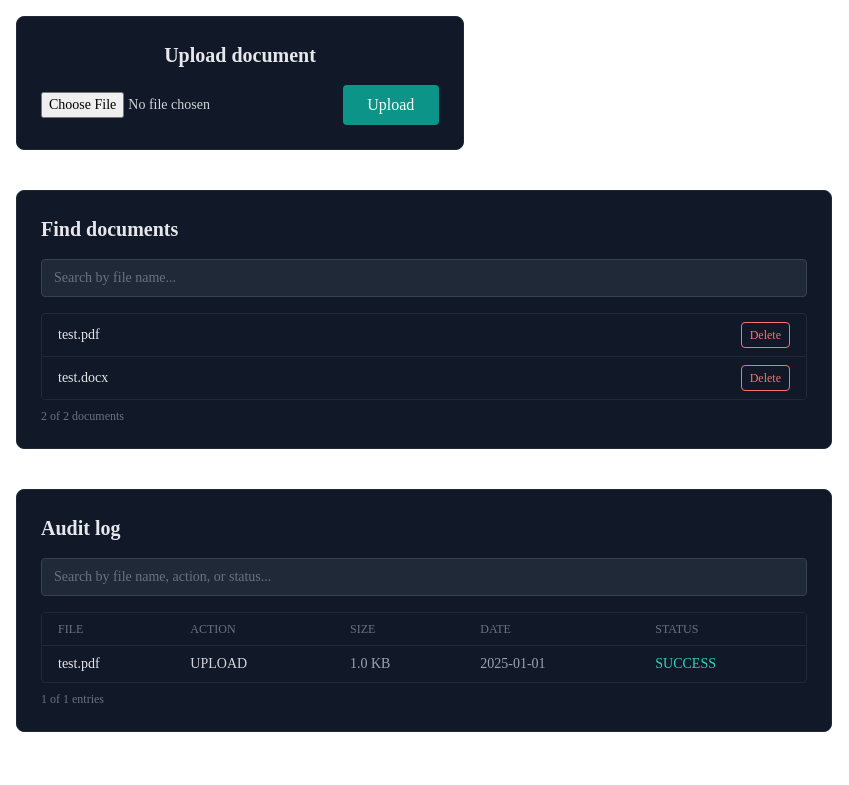
Test case: Documents › shows upload validation message
The image size is (849, 785).
Click the button "Upload". click: (391, 105)
box: [342,85,439,125]
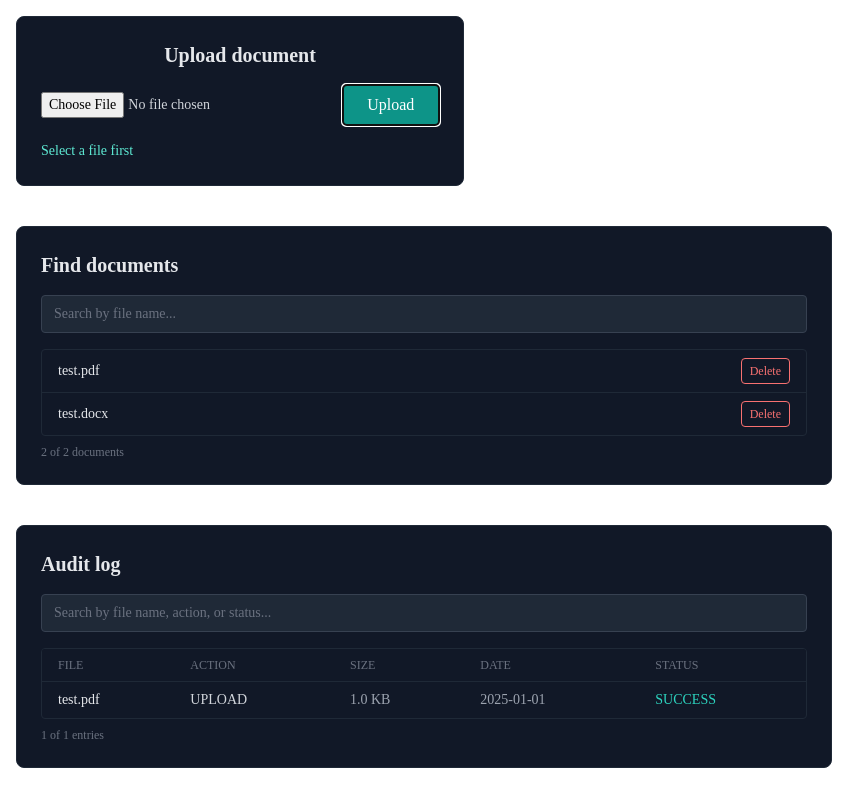
Result: the text "Select a file first" is shown at [41,143,133,158]
